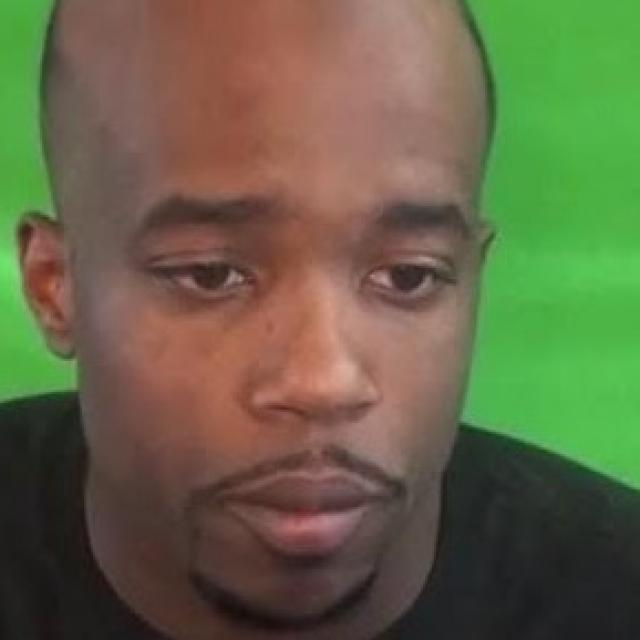Depress: (63, 10, 499, 627)
